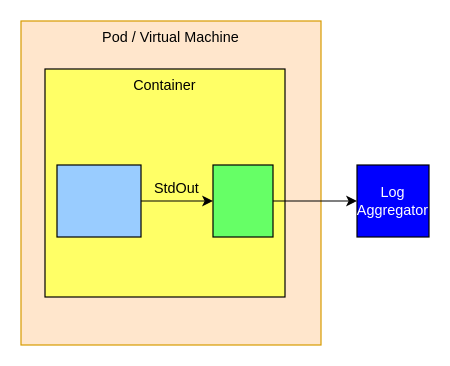
This 450x366 diagram has some shape labels left out. Here are the shapes that lost their labels. From the top down, the centre of each, then its label:
pixel 98 200: Application
pixel 242 200: Docker Fluentd Driver
